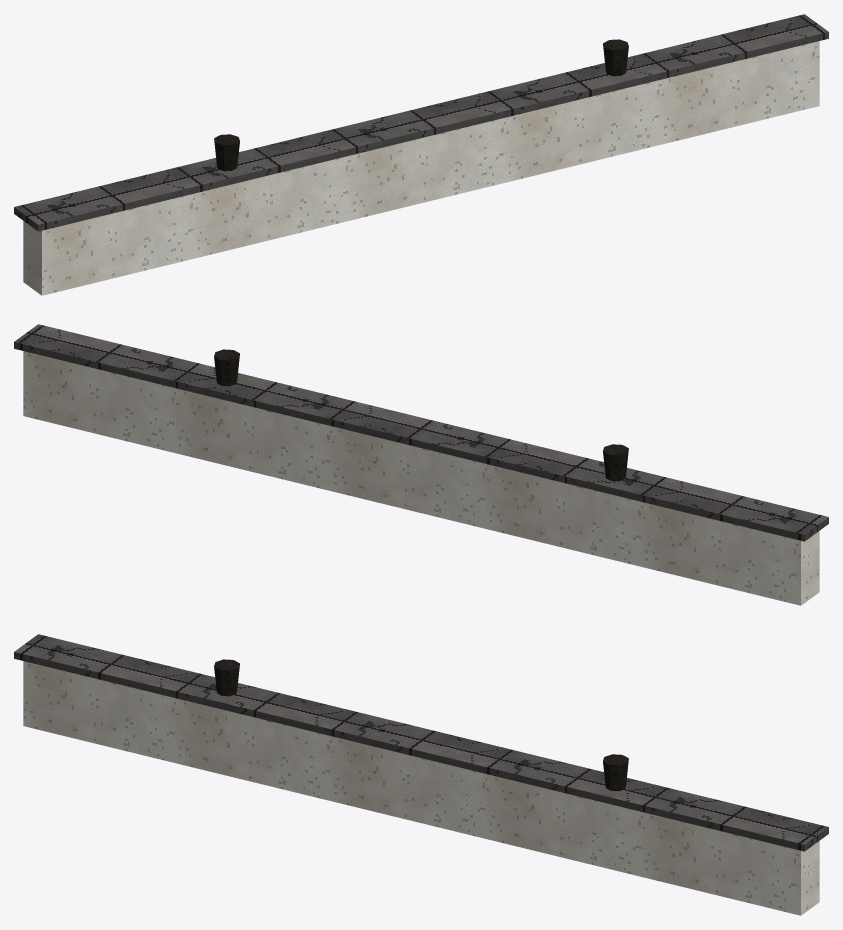
Rendered from malecon.obj.
3 renders of one model, top to bottom at view 1: azimuth 30°, elevation 25°; view 2: azimuth 150°, elevation 25°; view 3: azimuth 330°, elevation 25°, orthographic.
Parts seen in each view (by area): view 1: malecon; view 2: malecon; view 3: malecon.
Boxes of the visible parts, x1,y1,x2,y2 form: malecon: (14, 14, 828, 295); malecon: (14, 324, 828, 605); malecon: (14, 634, 828, 915).
Bounding box in the file's own units: 12.2 × 1.5 × 0.65.
Materials: 3 (3 with a texture image).
